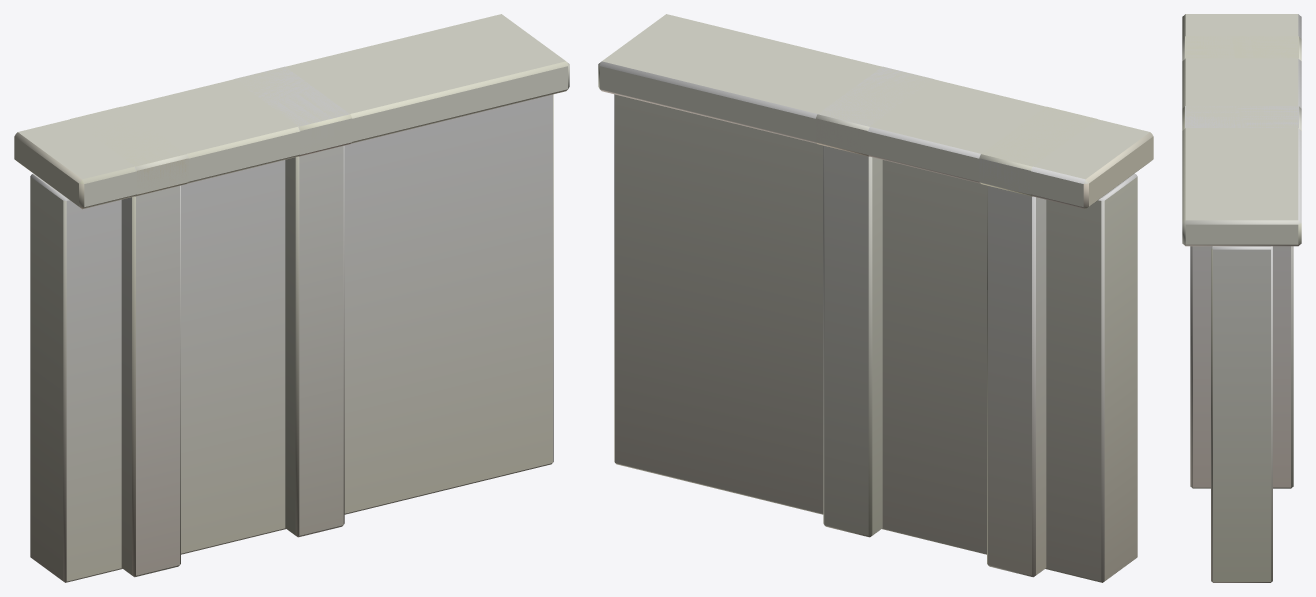
The model's file is uae-wall.glb.
3 views of the same model, side by side, from view 1: azimuth 30°, elevation 25°; view 2: azimuth 150°, elevation 25°; view 3: azimuth 270°, elevation 25° (orthographic). The views are drawn at different scales.
Visible parts, largest first — view 1: uae-wall; view 2: uae-wall; view 3: uae-wall.
Part boxes in pixels (x1,y1,x2,y2): uae-wall: (14,14,569,582); uae-wall: (598,14,1153,582); uae-wall: (1182,14,1301,582).
Size of the model in its own units: 1.2 by 0.97 by 0.29.
